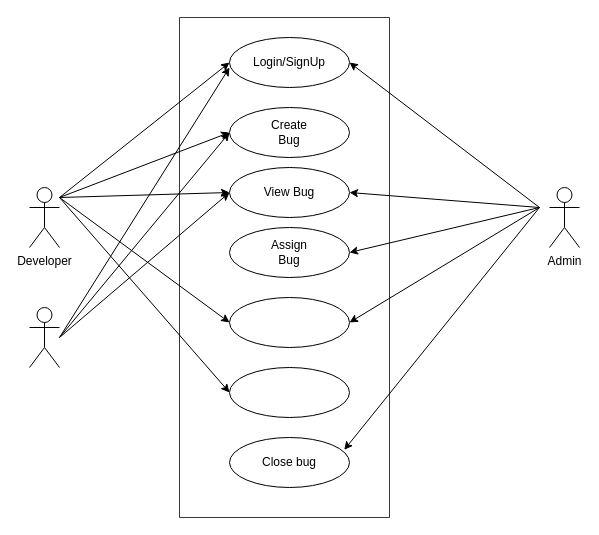
This 599x535 diagram has some shape labels left out. The centre of each missing label's shape, as x and y in pixels:
"Resolve Bug" belongs at (289,392).
"Tester" belongs at (44,337).
"Update Bug" belongs at (289,322).
